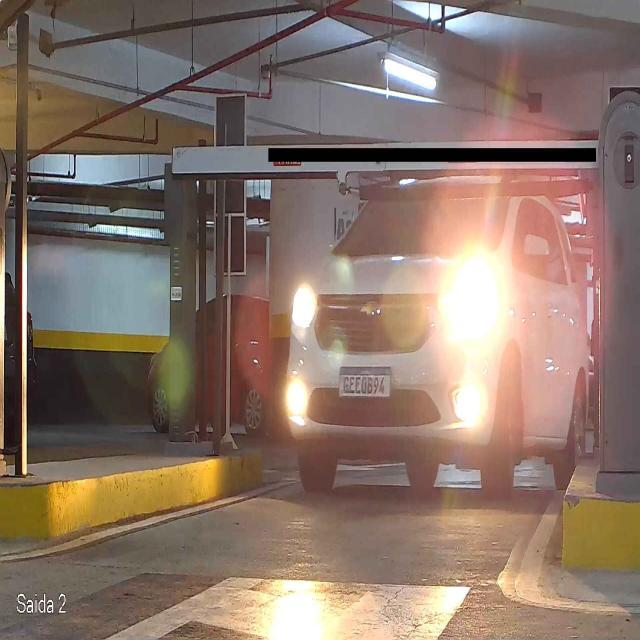mercosul_plate: (338, 365, 392, 399)
